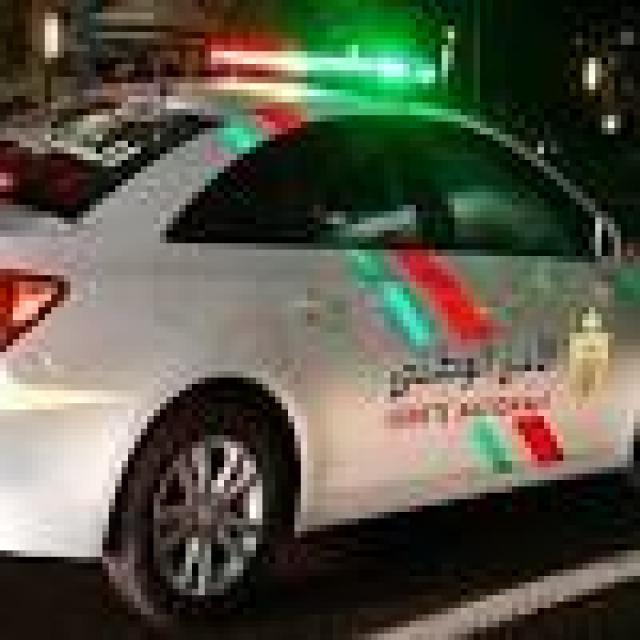police: (0, 54, 640, 615)
